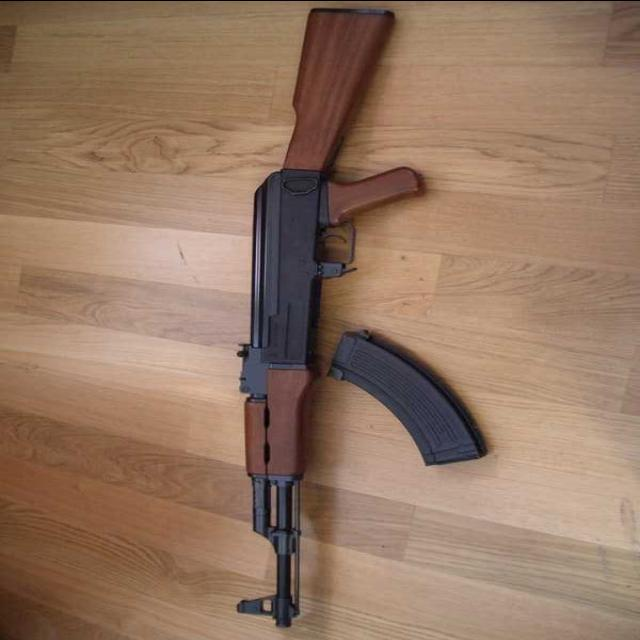heavyweapon: (165, 2, 483, 640)
